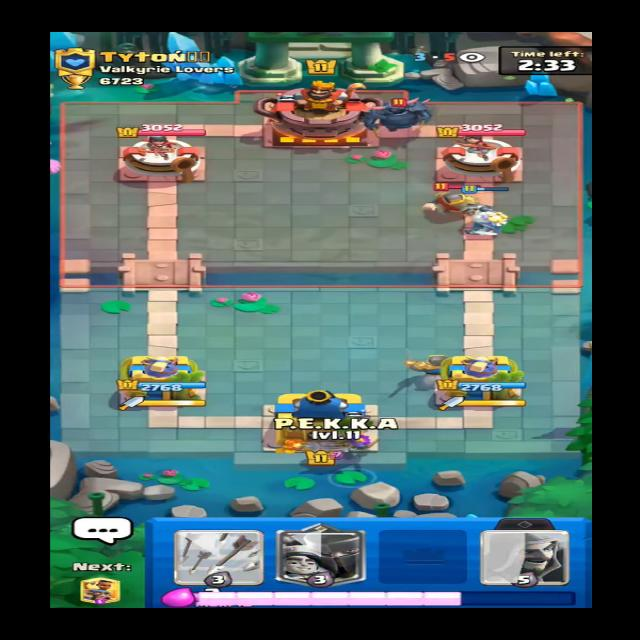knight: (417, 181, 492, 218)
pekka: (359, 97, 440, 131)
